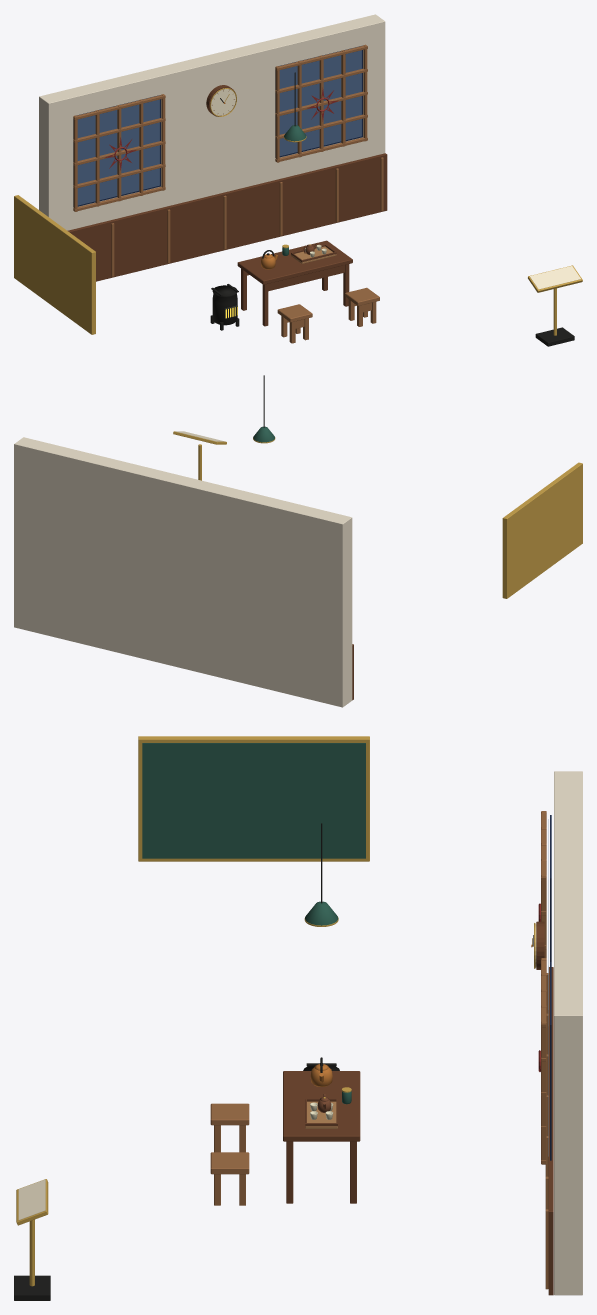
The model's file is S3_tea.glb.
The picture shows the model from 3 angles, top to bottom: view 1: azimuth 30°, elevation 25°; view 2: azimuth 150°, elevation 25°; view 3: azimuth 270°, elevation 25°; orthographic projection. The views are drawn at different scales.
Visible parts, largest first — view 1: S3_1_static, Gantt_frame, S3_2_static, S3_10_static, INT_stove, S3_12_static, S3_8_static, SIGN_label_tea; view 2: S3_1_static, Gantt_frame; view 3: SIGN_gantt, S3_1_static, S3_2_static, Gantt_frame, S3_10_static, S3_12_static, SIGN_label_tea, S3_11_static.
Boxes of the visible parts, x1,y1,x2,y2 form: S3_1_static: (39,14,387,281); Gantt_frame: (14,195,95,334); S3_2_static: (237,240,352,326); S3_10_static: (277,287,379,343); INT_stove: (210,284,239,330); S3_12_static: (528,265,582,346); S3_8_static: (206,85,236,116); SIGN_label_tea: (530,266,580,289); S3_1_static: (14,437,353,707); Gantt_frame: (502,462,582,598); SIGN_gantt: (142,743,365,858); S3_1_static: (538,771,582,1295); S3_2_static: (283,1071,360,1203); Gantt_frame: (138,736,369,861); S3_10_static: (210,1103,249,1205); S3_12_static: (14,1179,50,1300); SIGN_label_tea: (18,1179,45,1219); S3_11_static: (304,823,338,926).
Size of the model in its own units: 8.02 by 4 by 5.9.
